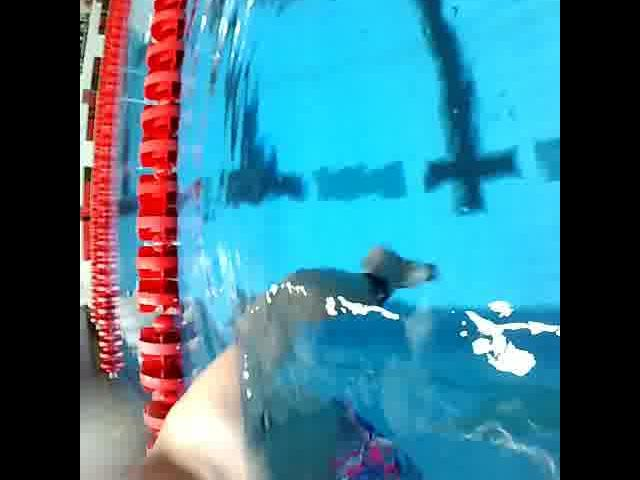Can: (387, 258, 443, 290)
